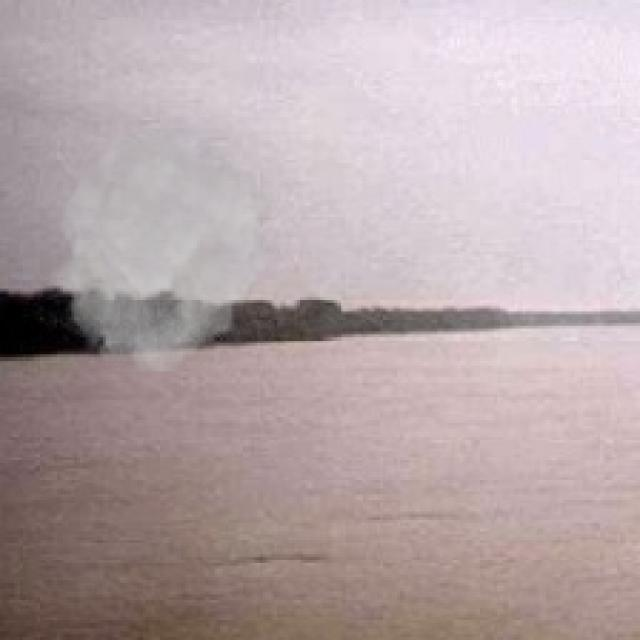Smoke: (43, 128, 283, 372)
